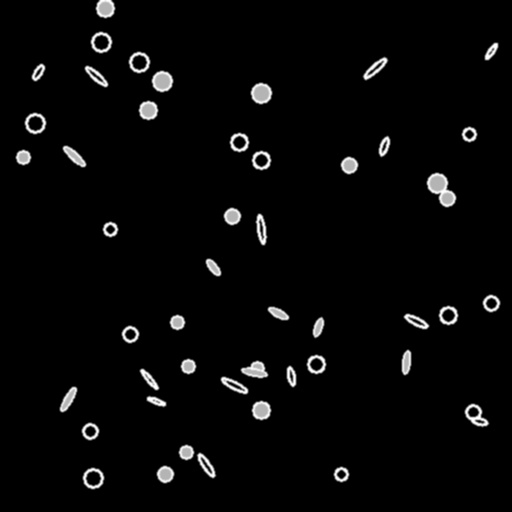pseudomonas: (362, 56, 388, 80), (62, 144, 86, 168), (84, 65, 108, 87), (196, 452, 216, 478), (220, 376, 248, 394), (59, 386, 77, 412), (140, 368, 158, 390), (404, 313, 428, 329), (268, 305, 288, 321), (256, 214, 266, 244), (205, 258, 221, 276), (241, 367, 267, 377), (484, 42, 498, 60), (31, 63, 45, 81), (378, 136, 390, 156), (146, 395, 166, 407), (312, 317, 324, 337), (401, 351, 411, 373), (470, 415, 488, 427), (286, 366, 296, 386)
synechocystis: (26, 114, 44, 132), (252, 84, 270, 102), (130, 53, 148, 71), (153, 72, 171, 90), (84, 469, 102, 487), (428, 174, 446, 192), (92, 33, 110, 51), (308, 356, 324, 372), (253, 152, 269, 168), (140, 102, 156, 118), (440, 307, 456, 323), (231, 134, 247, 150), (97, 0, 113, 16), (253, 402, 269, 418), (466, 405, 480, 419), (83, 424, 97, 438), (158, 467, 172, 481), (342, 158, 356, 172), (484, 296, 498, 310), (440, 191, 454, 205), (225, 209, 239, 223), (123, 327, 137, 341), (104, 223, 116, 235), (335, 468, 347, 480), (463, 128, 475, 140), (171, 316, 183, 328), (251, 362, 263, 374), (17, 151, 29, 163), (180, 446, 192, 458), (182, 360, 194, 372)
